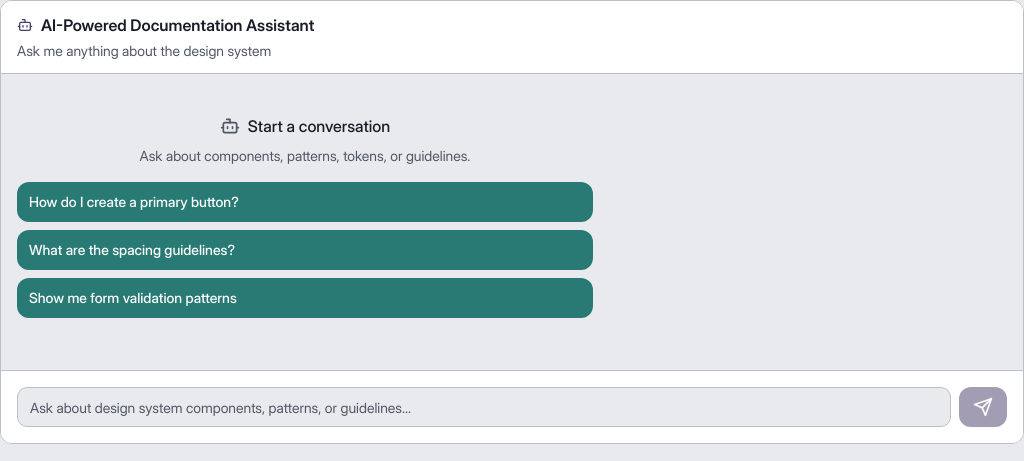
it: ChatInterface › shows example queries that can be clicked
This screenshot has width=1024, height=461.
Click the button "How do I create a primary button?". click: (134, 202)
box: [17, 182, 593, 222]
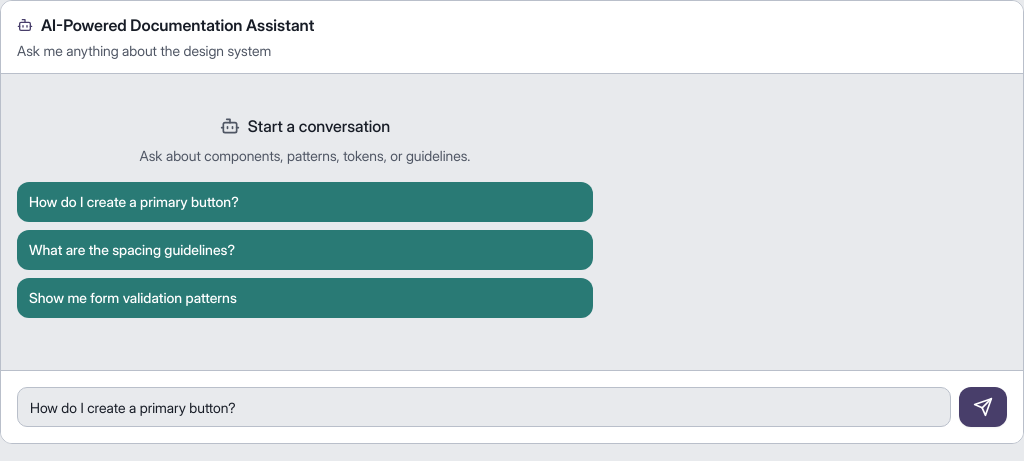
Expected: the field with placeholder "Ask about design system" holds "How do I create a primary button?", [17, 387, 951, 427]
